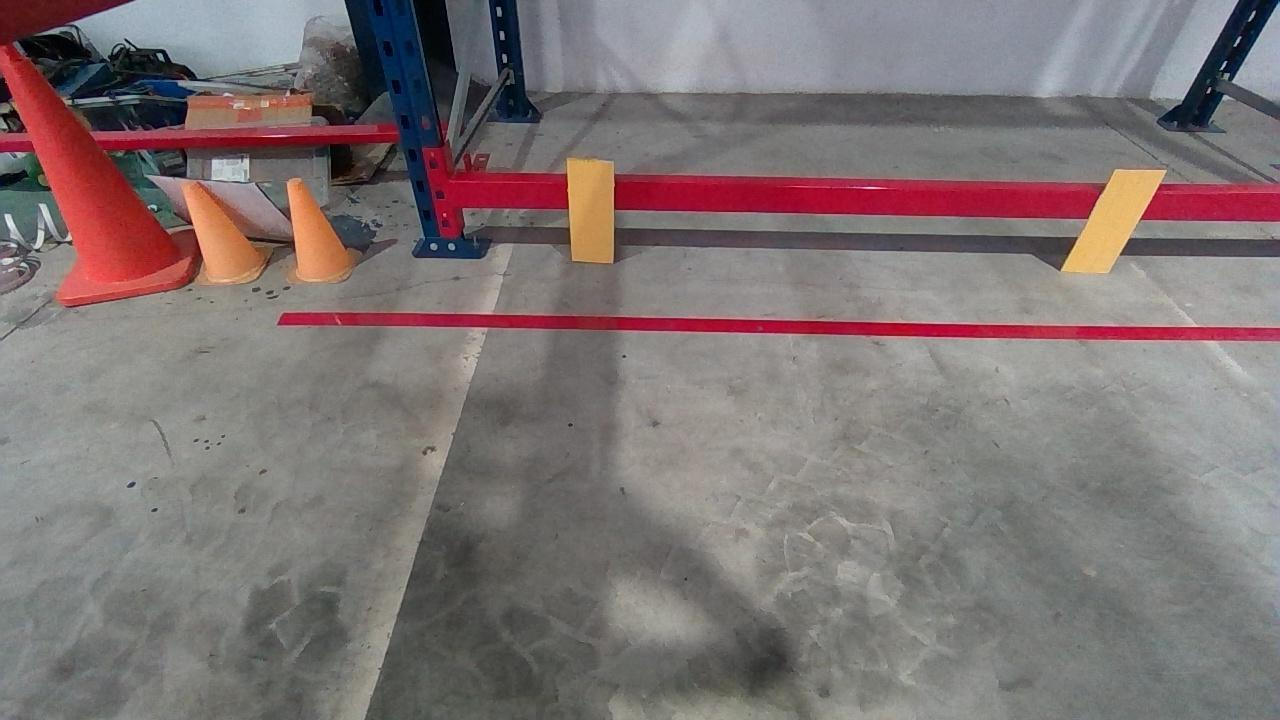h_rack: (456, 178, 1280, 225)
orange_strip: (1058, 167, 1168, 273), (567, 158, 615, 262)
red_line: (278, 310, 1278, 341)
